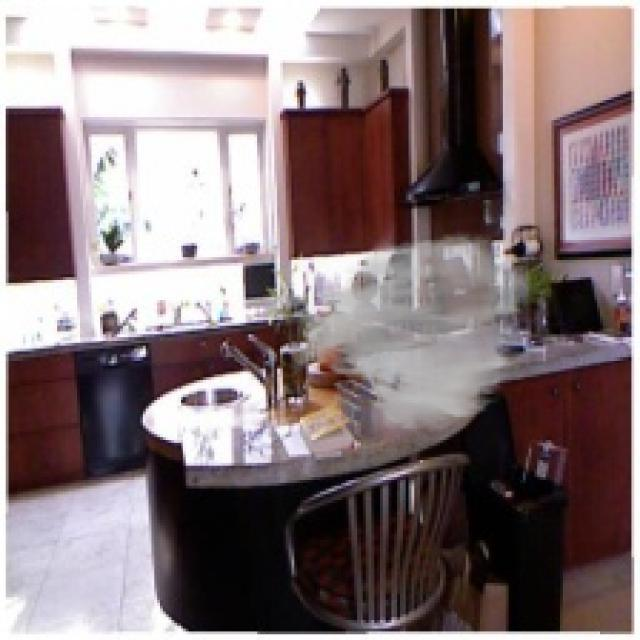Smoke: (286, 232, 534, 434)
